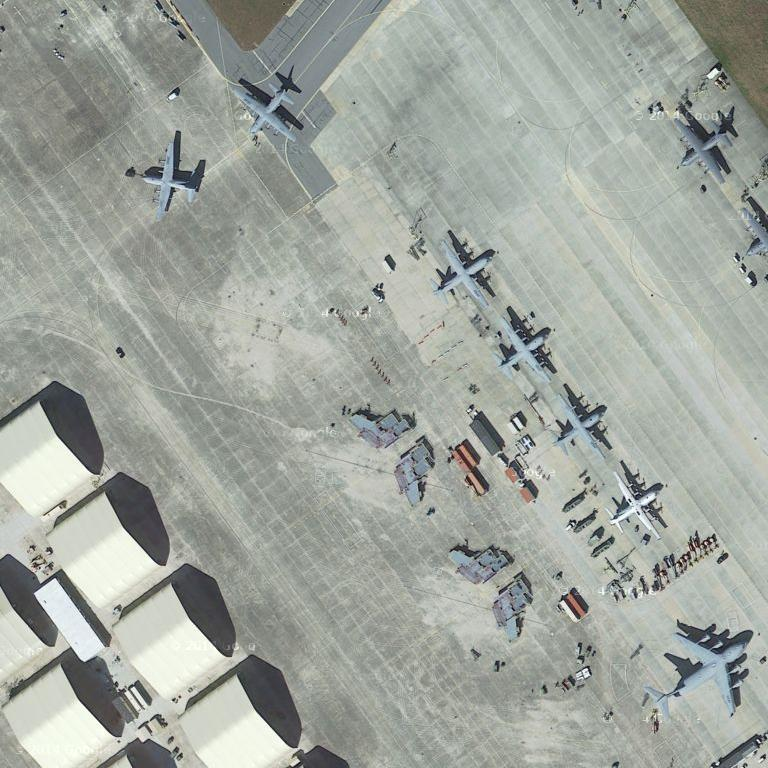C-130: (133, 139, 206, 218), (226, 74, 305, 147), (545, 387, 615, 466), (667, 108, 735, 186), (492, 312, 555, 387), (603, 468, 666, 541), (433, 233, 494, 307)
C-17: (639, 621, 752, 719)
